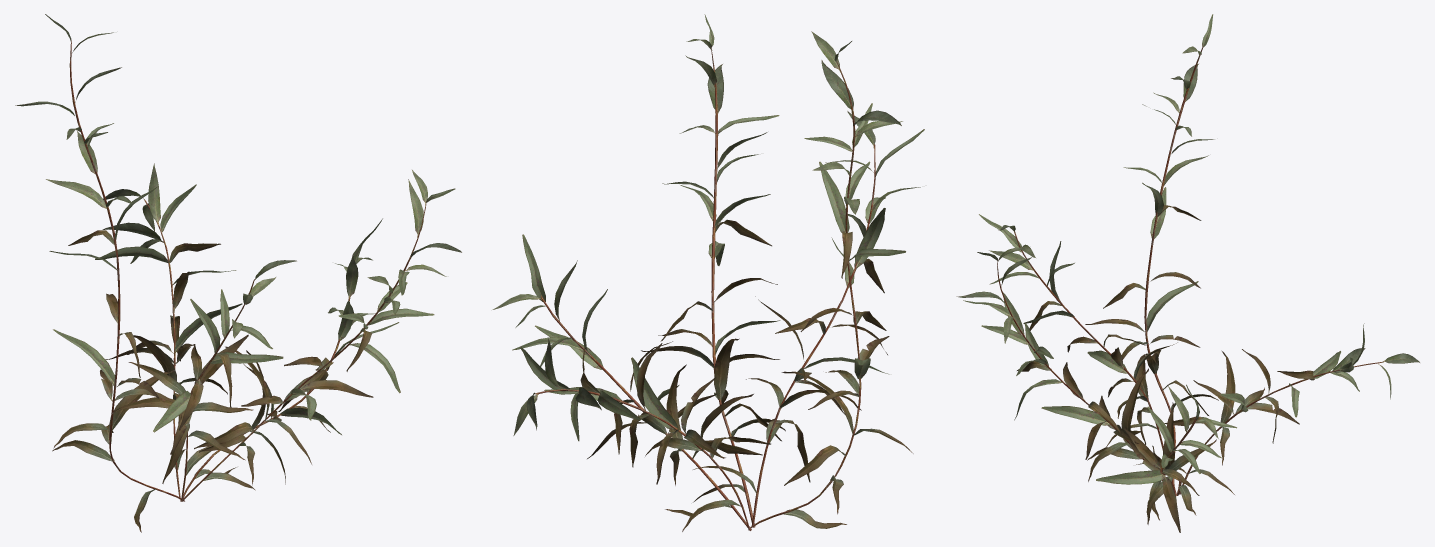
The model's file is shrub_a.glb.
The picture shows the model from 3 angles, left to right: view 1: azimuth 30°, elevation 25°; view 2: azimuth 150°, elevation 25°; view 3: azimuth 270°, elevation 25°; orthographic projection. The views are drawn at different scales.
Visible parts, largest first — view 1: shrub_a; view 2: shrub_a; view 3: shrub_a.
Boxes of the visible parts, <box> form: shrub_a: <box>15,14,461,532</box>; shrub_a: <box>492,14,924,531</box>; shrub_a: <box>956,14,1419,532</box>.
Size of the model in its own units: 1.31 by 1.69 by 1.64.
1 material, 1 textured.
